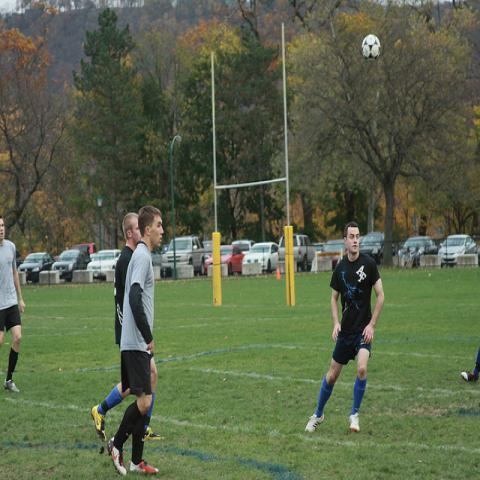car: (15, 239, 326, 262), (160, 235, 205, 278), (393, 236, 439, 268), (438, 234, 478, 269), (278, 234, 315, 271), (241, 242, 278, 278), (204, 244, 246, 274), (17, 252, 56, 283), (51, 249, 92, 278), (88, 249, 121, 280), (360, 232, 384, 264), (231, 238, 256, 255), (71, 242, 99, 257), (323, 239, 347, 255)
